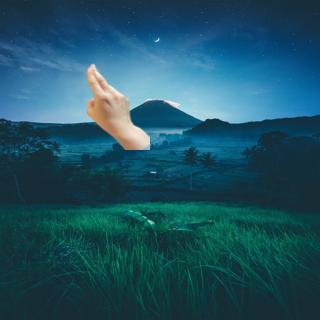DHAVE: (81, 61, 134, 132)
